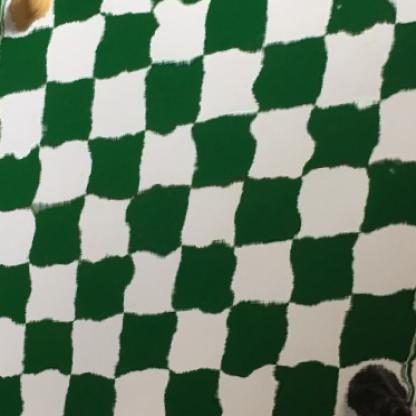black-king: (334, 368, 416, 416)
white-king: (1, 0, 60, 34)
